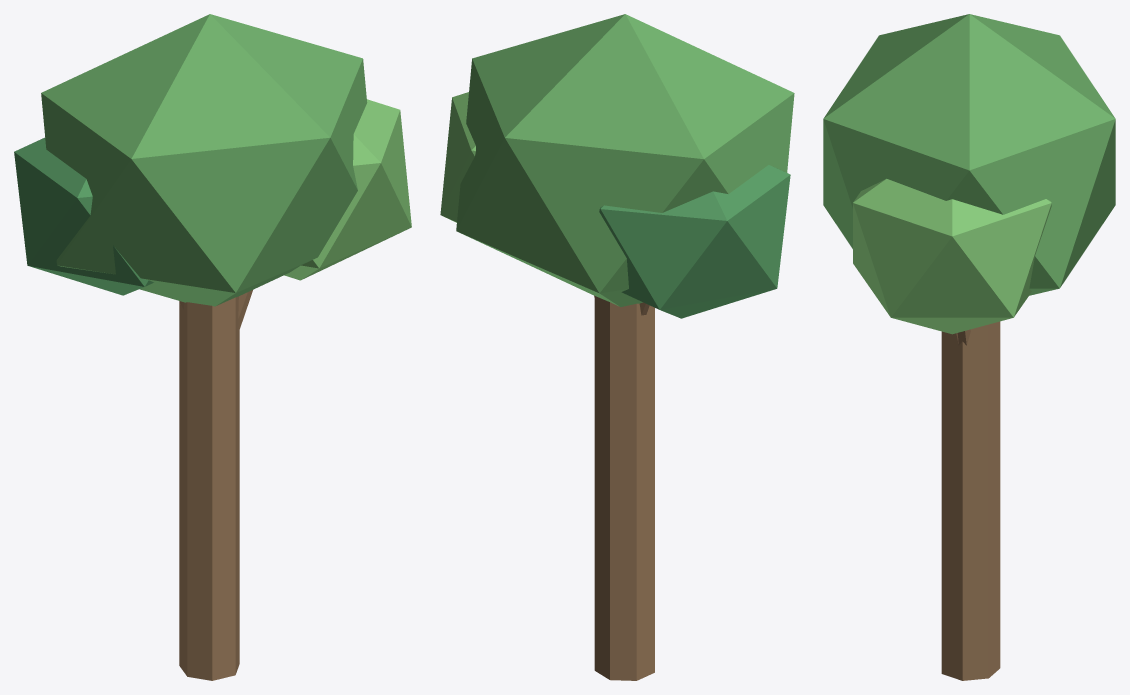
File: leaf_tree_01.glb
3 renders of one model, left to right at view 1: azimuth 30°, elevation 25°; view 2: azimuth 150°, elevation 25°; view 3: azimuth 270°, elevation 25°, orthographic.
Parts seen in each view (by area): view 1: leaf_tree_01_canopy_1, leaf_tree_01_trunk, leaf_tree_01_canopy_2, leaf_tree_01_canopy_3; view 2: leaf_tree_01_canopy_1, leaf_tree_01_trunk, leaf_tree_01_canopy_3, leaf_tree_01_canopy_2; view 3: leaf_tree_01_canopy_1, leaf_tree_01_canopy_2, leaf_tree_01_trunk.
Part boxes in pixels (x1,y1,x2,y2): leaf_tree_01_canopy_1: [41, 14, 367, 306]; leaf_tree_01_trunk: [179, 296, 239, 680]; leaf_tree_01_canopy_2: [284, 99, 411, 280]; leaf_tree_01_canopy_3: [14, 137, 153, 295]; leaf_tree_01_canopy_1: [456, 14, 794, 306]; leaf_tree_01_trunk: [594, 296, 654, 680]; leaf_tree_01_canopy_3: [599, 165, 790, 318]; leaf_tree_01_canopy_2: [440, 92, 475, 222]; leaf_tree_01_canopy_1: [823, 14, 1115, 295]; leaf_tree_01_canopy_2: [853, 178, 1051, 334]; leaf_tree_01_trunk: [941, 321, 1000, 680].
Size of the model in its own units: 2.34 by 4.2 by 1.7.
